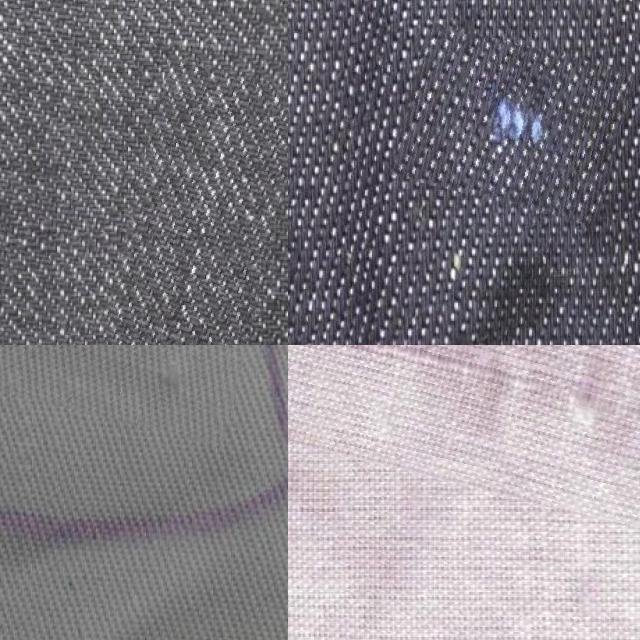stains: (288, 345, 640, 520), (68, 60, 277, 345), (398, 33, 626, 215), (0, 345, 248, 433)
